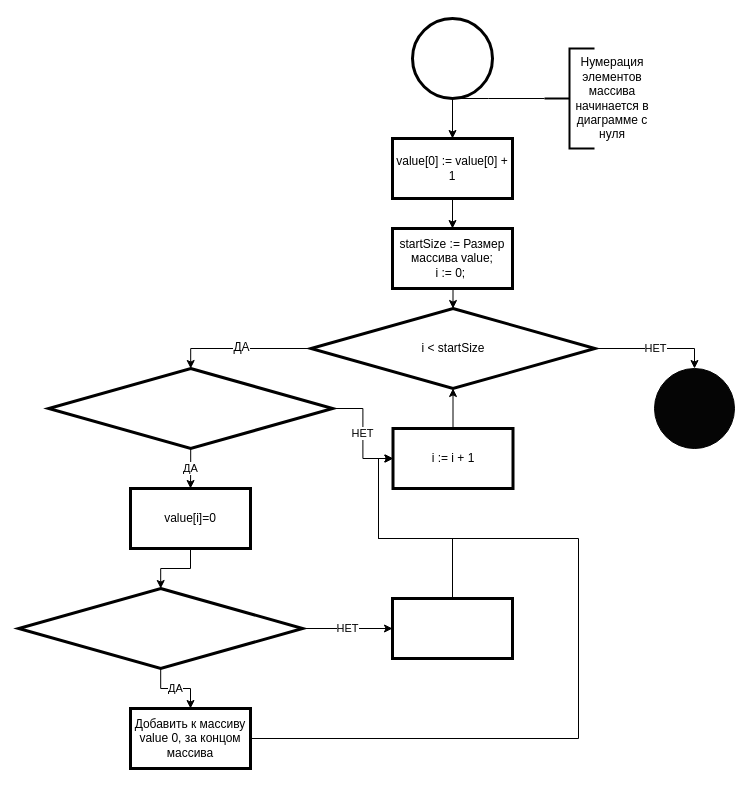
The diagram is 752 pixels wide and 787 high, and some of its shapes have lost their labels. Each missing label, with the centre of its shape:
"i == Размер массива value - 1" goes at (160,628).
"value[i+1] := value[i+1] +1" goes at (452,628).
"value[i] >= Размеру массива alphabet" goes at (190,408).
